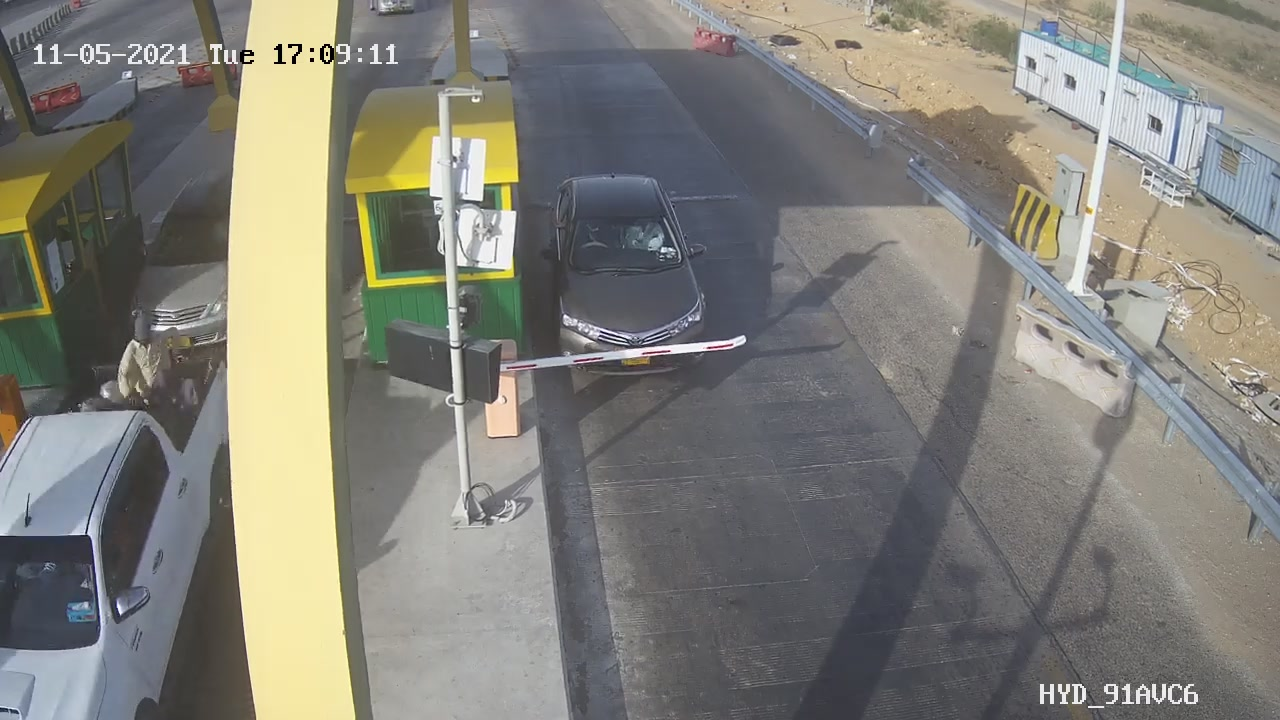F1: (525, 157, 733, 401)
